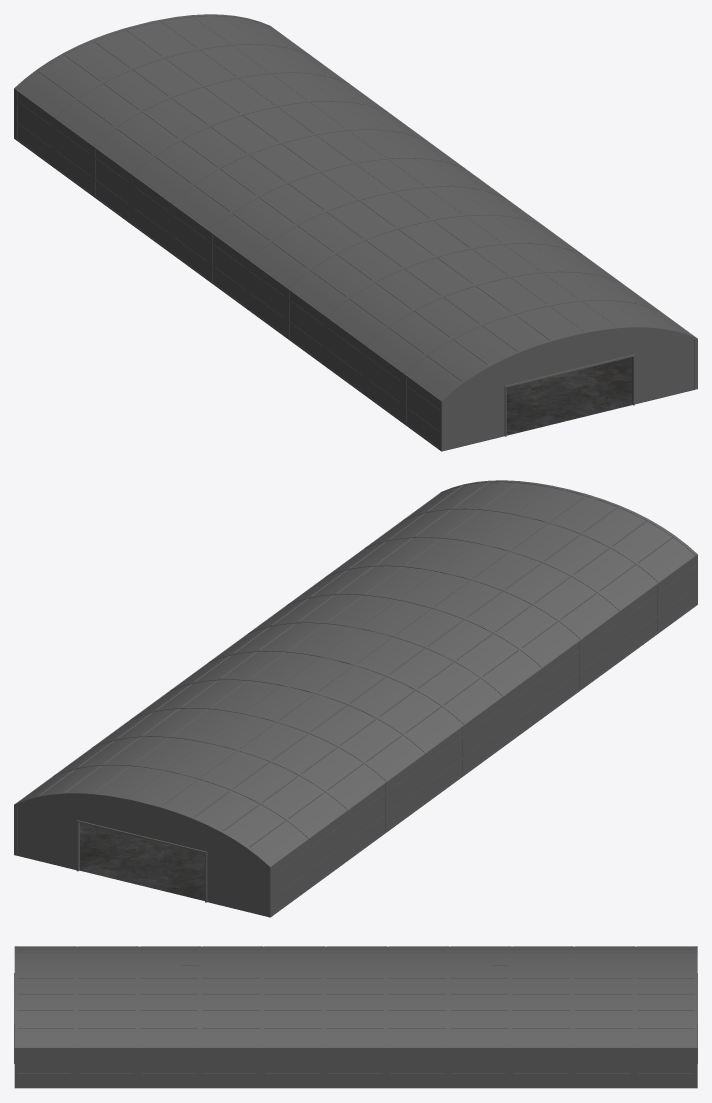
The model's file is deney.fbx.
The picture shows the model from 3 angles, top to bottom: view 1: azimuth 30°, elevation 25°; view 2: azimuth 150°, elevation 25°; view 3: azimuth 270°, elevation 25°; orthographic projection. The views are drawn at different scales.
Parts seen in each view (by area): view 1: NurbsPath.001; view 2: NurbsPath.001; view 3: NurbsPath.001.
Part boxes in pixels (bbox=[...]): NurbsPath.001: bbox=[14, 14, 697, 451]; NurbsPath.001: bbox=[14, 480, 697, 917]; NurbsPath.001: bbox=[14, 946, 697, 1088].
Bounding box in the file's own units: 1600 × 502 × 4627.
